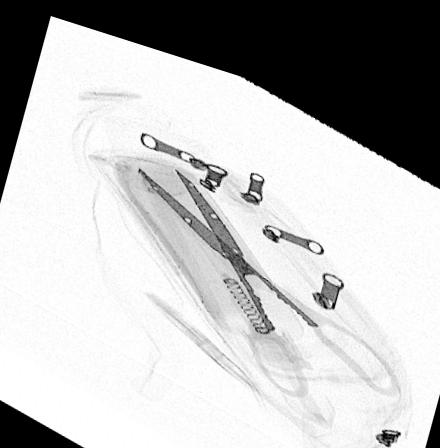Scissors: (137, 155, 403, 379)
